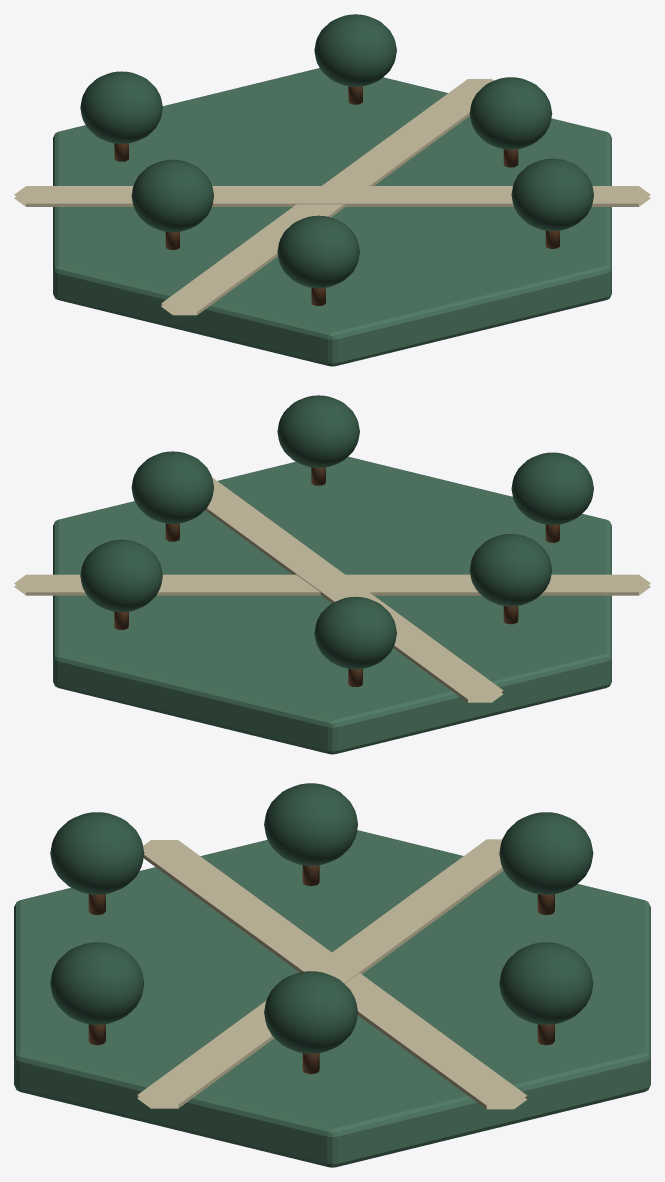
The model's file is quadra-prefeitura.glb.
3 views of the same model, one above another, from view 1: azimuth 30°, elevation 25°; view 2: azimuth 150°, elevation 25°; view 3: azimuth 270°, elevation 25° (orthographic). The views are drawn at different scales.
Visible parts, largest first — view 1: lote, caminho, caminho.001, copa.001, copa.002, copa.003, copa.004, copa, copa.005; view 2: lote, caminho, caminho.001, copa.003, copa.005, copa.002, copa, copa.004, copa.001; view 3: lote, caminho, caminho.001, copa.002, copa.004, copa.003, copa.005, copa, copa.001.
Part boxes in pixels (x1,y1,x2,y2): lote: [53, 68, 611, 366]; caminho: [161, 79, 493, 315]; caminho.001: [14, 186, 650, 206]; copa.001: [469, 77, 552, 149]; copa.002: [80, 71, 162, 143]; copa.003: [314, 14, 396, 86]; copa.004: [277, 215, 359, 288]; copa: [131, 159, 213, 232]; copa.005: [511, 158, 593, 230]; lote: [53, 456, 611, 754]; caminho: [14, 574, 650, 595]; caminho.001: [205, 477, 503, 702]; copa.003: [80, 539, 162, 612]; copa.005: [277, 395, 359, 467]; copa.002: [314, 596, 396, 669]; copa: [469, 534, 552, 606]; copa.004: [511, 452, 593, 524]; copa.001: [131, 451, 213, 523]; lote: [14, 830, 650, 1167]; caminho: [143, 840, 527, 1109]; caminho.001: [137, 839, 503, 1108]; copa.002: [499, 812, 593, 894]; copa.004: [50, 812, 144, 894]; copa.003: [499, 942, 593, 1024]; copa.005: [50, 942, 144, 1024]; copa: [264, 783, 357, 865]; copa.001: [264, 971, 357, 1053].
Size of the model in its own units: 1.71 by 0.3435 by 1.49.
